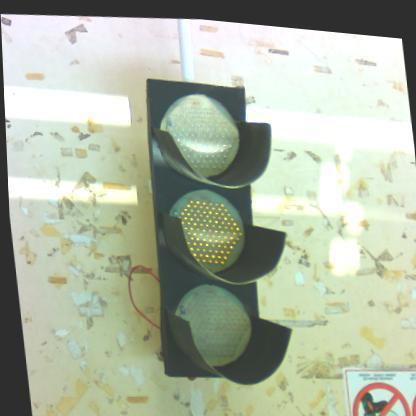yellow: (130, 70, 299, 387)
